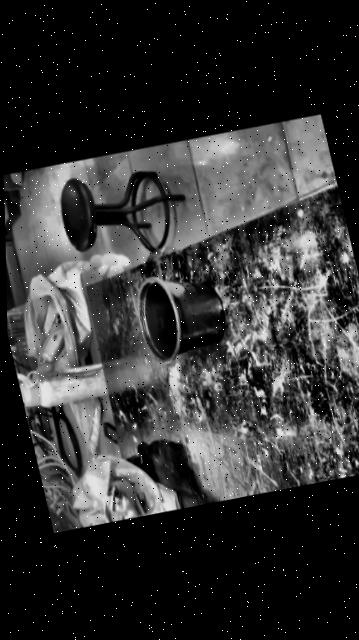pot: (128, 268, 231, 369)
